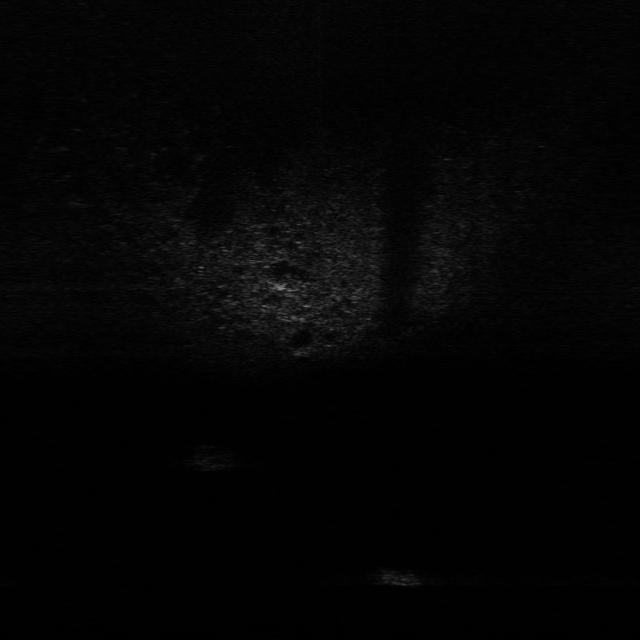circle cage: (186, 437, 243, 472)
cylinder: (366, 559, 422, 589)
